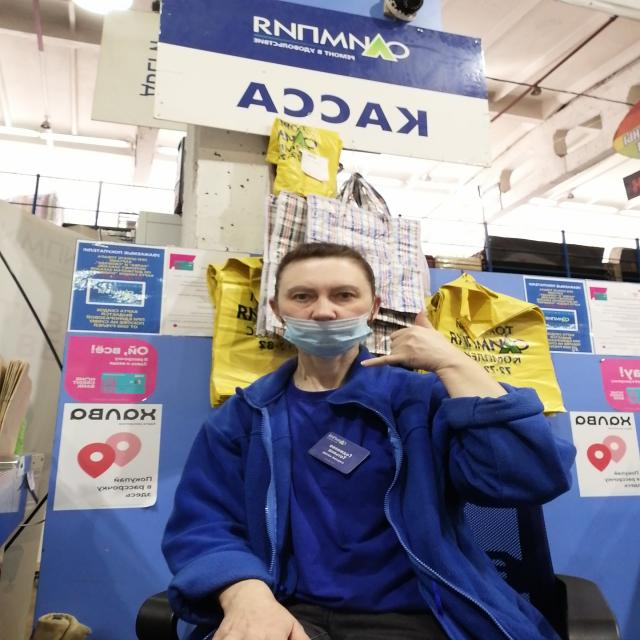call: (356, 307, 457, 372)
